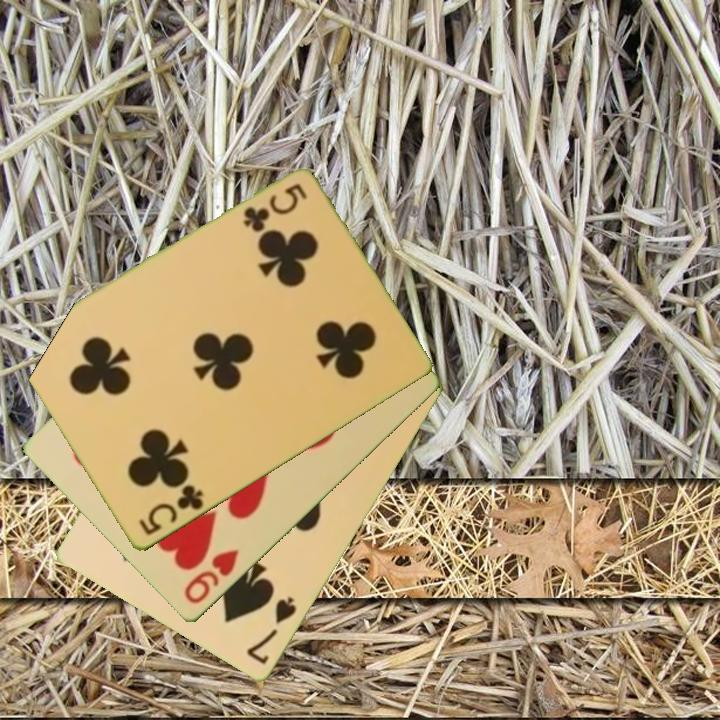5c: (135, 481, 207, 540), (239, 180, 311, 235)
7s: (243, 594, 300, 668)
9h: (181, 546, 242, 608)
